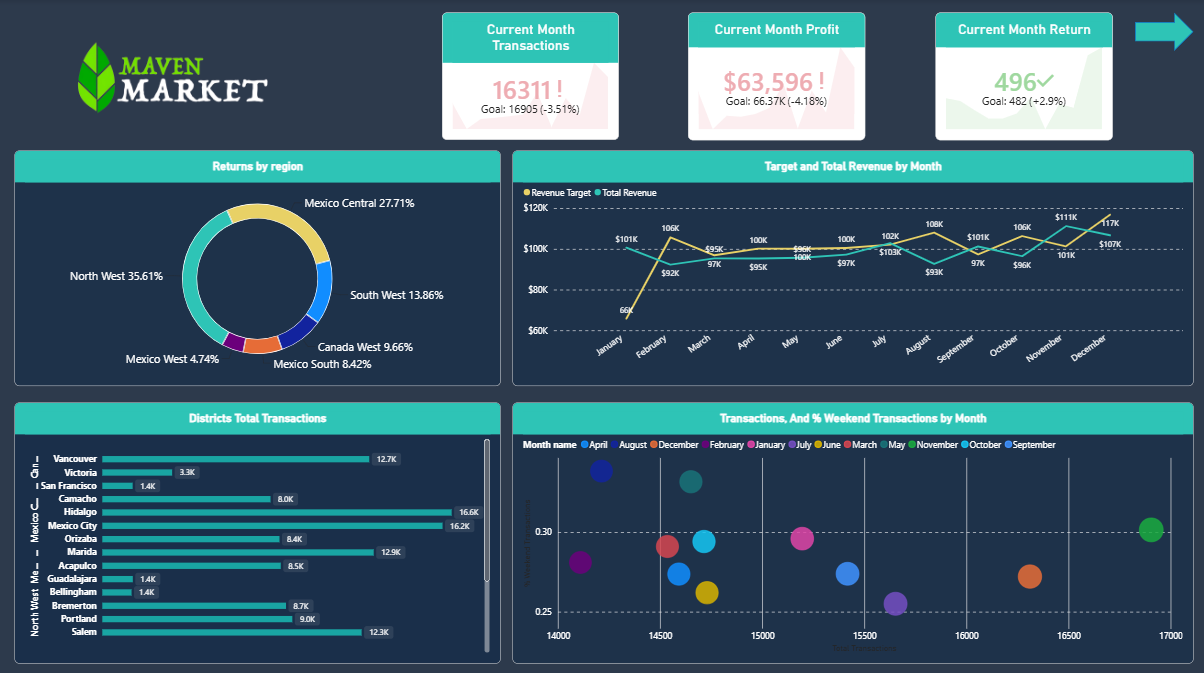

Layout of this report page (visuals, bound fields, positions):
{"tool":"powerbi","page":{"name":"Transactions Returns","canvas":[1920,1080],"ordinal":2},"visuals":[{"type":"kpi","title":"Current Month Transactions","fields":{"Goal":["Transactions_Data.Last Month Transactions"],"Indicator":["Transactions_Data.Total Transactions"],"TrendLine":["Calendar.Start of month"]},"box":[706.2,21.5,281.5,202.8],"z":0},{"type":"kpi","title":"Current Month Profit","fields":{"Goal":["Transactions_Data.Last Month Profit"],"Indicator":["Transactions_Data.Total Profit"],"TrendLine":["Calendar.Start of month"]},"box":[1097.5,21.5,282,203],"z":1000},{"type":"kpi","title":"Current Month Return","fields":{"Goal":["Returns_1997-1998.Last Month Returns"],"Indicator":["Returns_1997-1998.Current Month Return"],"TrendLine":["Calendar.Start of month"]},"box":[1491.2,21.5,282,203],"z":2000},{"type":"donutChart","title":"Returns by region","fields":{"Category":["Regions.sales_region"],"Y":["Returns_1997-1998.Total Return"]},"box":[26.2,241,773,374.6],"z":3000},{"type":"clusteredBarChart","title":"Districts Total Transactions","fields":{"Category":["Regions.sales_region","Regions.sales_district"],"Y":["Transactions_Data.Total Transactions"]},"box":[26.2,641.8,773,415.1],"z":4000},{"type":"lineChart","title":"Target and Total Revenue by Month","fields":{"Category":["Calendar.date.Variation.Date Hierarchy.Month"],"Y":["Transactions_Data.Revenue Target","Transactions_Data.Total Revenue"]},"box":[818.4,241,1083.2,374.6],"z":5000},{"type":"scatterChart","title":"Transactions,  And % Weekend Transactions by Month","fields":{"Series":["Calendar.Month name"],"Size":["Transactions_Data.Quantity sold"],"X":["Transactions_Data.Total Transactions"],"Y":["Transactions_Data.% Weekend Transactions"]},"box":[818.4,641.8,1083.2,415.1],"z":6000},{"type":"image","box":[9.5,21.5,539.2,210],"z":7000},{"type":"shape","box":[1808.5,21.5,93,61.2],"z":8000}]}

Visuals, with their boxes in screenshot pixels (x1, y1, x2, y2), scaled from the page's 1920x1080 canvas onto the 1204x673 screenshot:
"Current Month Transactions" kpi: (443,13,619,140)
"Current Month Profit" kpi: (688,13,865,140)
"Current Month Return" kpi: (935,13,1112,140)
"Returns by region" donutChart: (16,150,501,384)
"Districts Total Transactions" clusteredBarChart: (16,400,501,659)
"Target and Total Revenue by Month" lineChart: (513,150,1192,384)
"Transactions,  And % Weekend Transactions by Month" scatterChart: (513,400,1192,659)
image: (6,13,344,144)
shape: (1134,13,1192,52)
